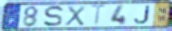4: (110, 5, 129, 27)
8: (22, 5, 40, 28)
J: (134, 5, 151, 25)
S: (43, 5, 65, 28)
T: (89, 4, 108, 27)
X: (64, 5, 87, 27)
